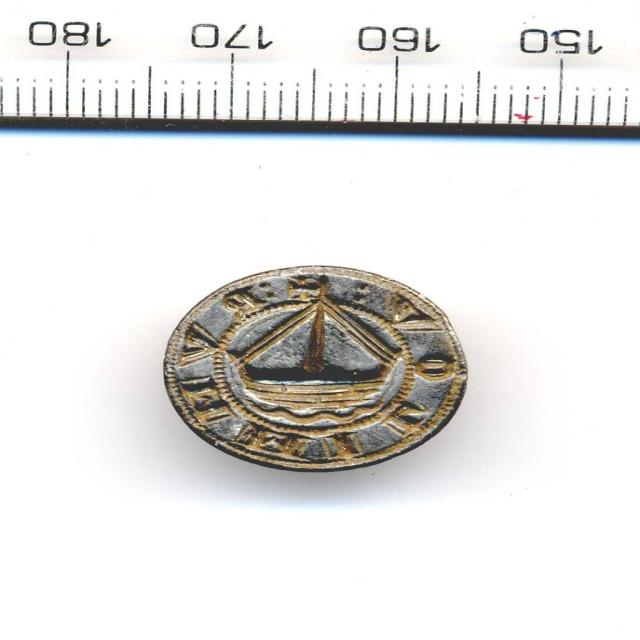Coin: (160, 263, 466, 473)
